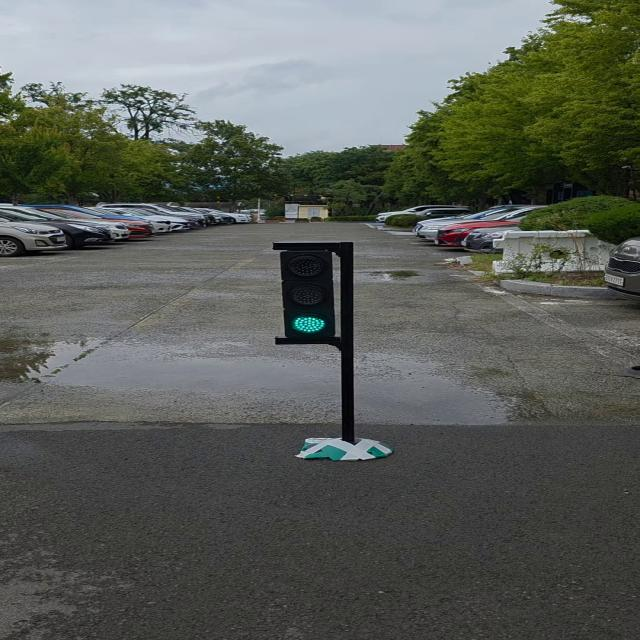green: (282, 242, 351, 345)
